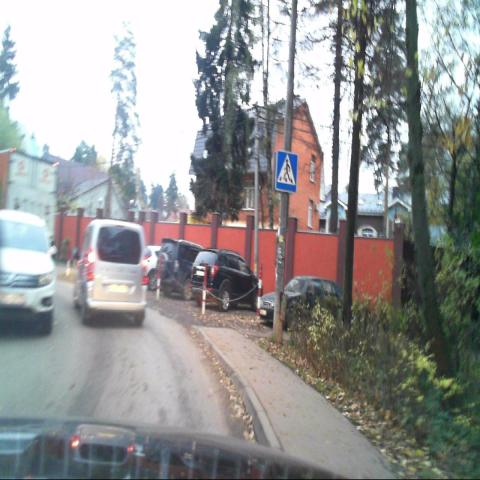5_19_1: (275, 150, 297, 193)
